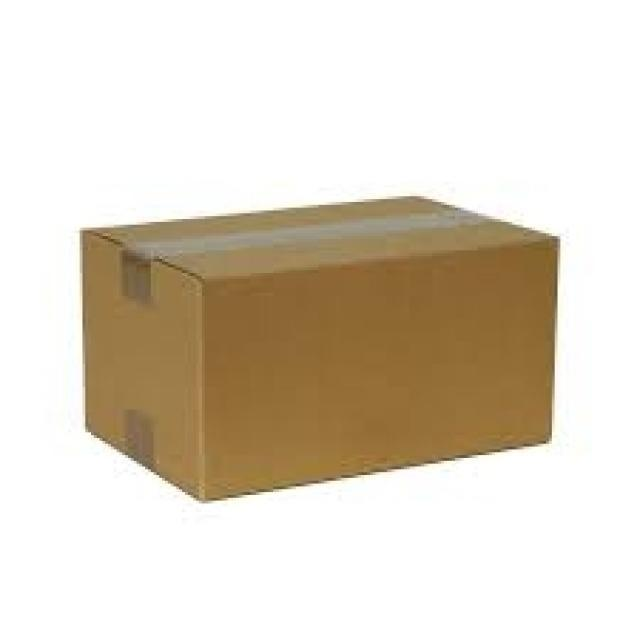cardboard paper: (81, 196, 555, 497)
